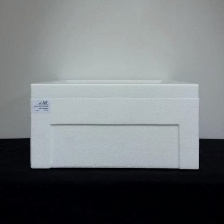foam_box: (24, 74, 205, 173)
